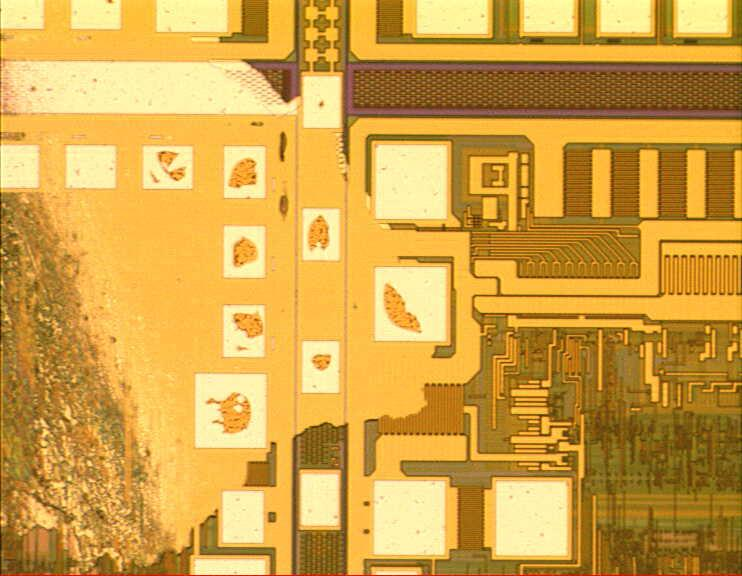BLOCK ETCH: (1, 1, 453, 575)
